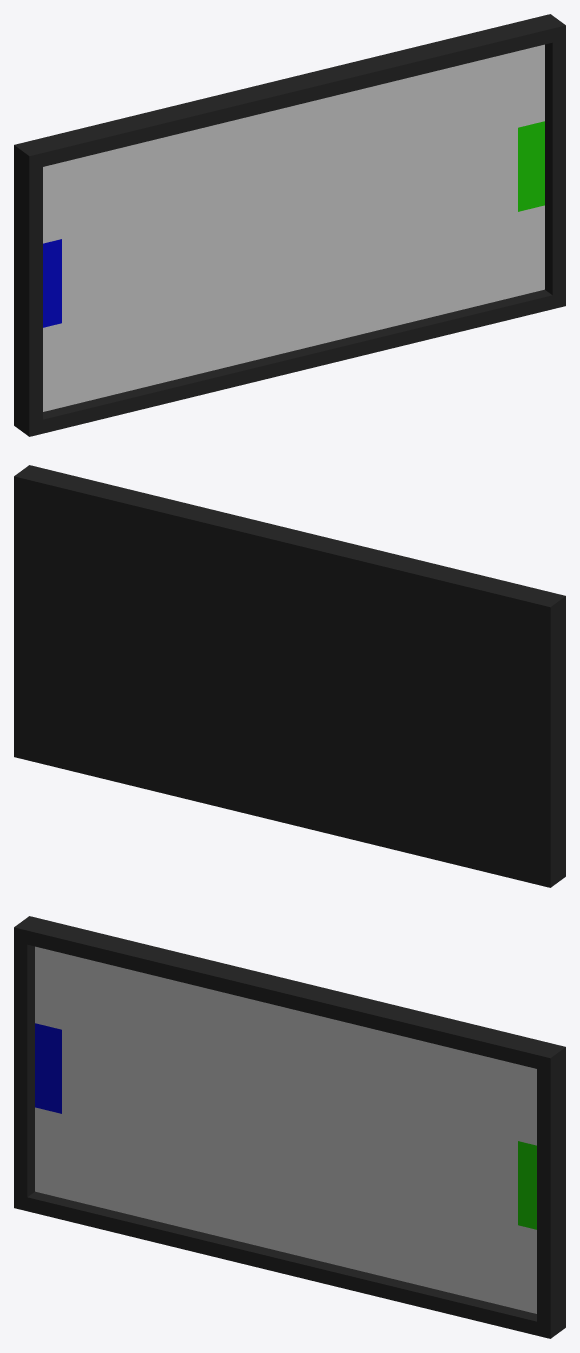
File: arena.dae
The picture shows the model from 3 angles, top to bottom: view 1: azimuth 30°, elevation 25°; view 2: azimuth 150°, elevation 25°; view 3: azimuth 330°, elevation 25°; orthographic projection.
Visible parts, largest first — view 1: Plane, Cube; view 2: Cube; view 3: Plane, Cube.
Part boxes in pixels (x1,y1,x2,y2): Plane: [43, 44, 544, 411]; Cube: [14, 14, 565, 436]; Cube: [14, 465, 565, 887]; Plane: [35, 946, 536, 1313]; Cube: [14, 916, 565, 1338].
Bounding box in the file's own units: 40 × 2 × 20.
